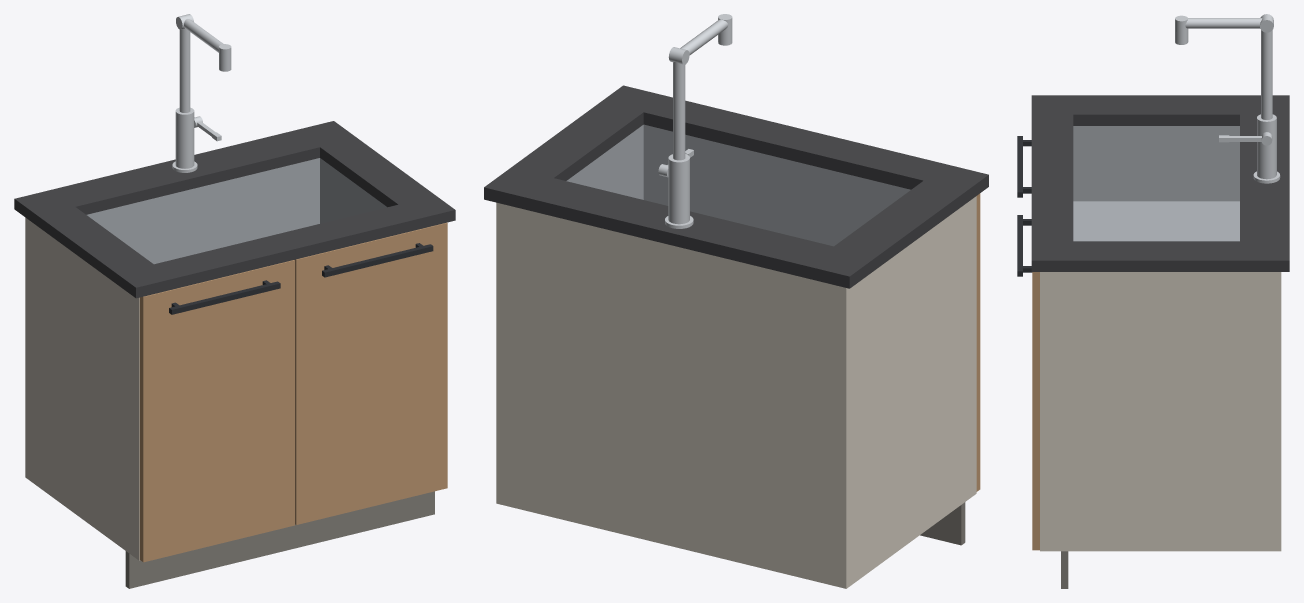
The model's file is faucet.glb.
3 renders of one model, left to right at view 1: azimuth 30°, elevation 25°; view 2: azimuth 150°, elevation 25°; view 3: azimuth 270°, elevation 25°, orthographic. The views are drawn at different scales.
Visible parts, largest first — view 1: 싱크장 왼문, 싱크장 오른문, 싱크장 옆판 왼쪽, 싱크볼, 상판 뒤, 상판 앞, 걸레받이, 상판 옆, 상판 옆.001, 수전 몸통, 수전 목, 싱크장 왼문 손잡이 (+1 smaller); view 2: 싱크장 뒤판, 싱크장 옆판 왼쪽, 싱크볼, 상판 뒤, 상판 앞, 상판 옆, 상판 옆.001, 싱크장 밑판, 싱크장 옆판 오른쪽, 싱크장 왼문, 수전 몸통, 수전 목 (+1 smaller); view 3: 싱크장 옆판 오른쪽, 싱크볼, 상판 앞, 상판 뒤, 상판 옆, 상판 옆.001, 싱크장 오른문, 수전 몸통, 수전 목, 수전 토수구, 수전 물 나오는 곳, 싱크장 오른문 손잡이 (+1 smaller).
Part boxes in pixels (x1=…): 싱크장 왼문: x1=139, y1=260, x2=294, y2=562; 싱크장 오른문: x1=294, y1=222, x2=447, y2=524; 싱크장 옆판 왼쪽: x1=25, y1=217, x2=139, y2=560; 싱크볼: x1=87, y1=158, x2=386, y2=264; 상판 뒤: x1=14, y1=121, x2=356, y2=226; 상판 앞: x1=116, y1=195, x2=455, y2=298; 걸레받이: x1=125, y1=491, x2=434, y2=588; 상판 옆: x1=38, y1=207, x2=153, y2=283; 상판 옆.001: x1=320, y1=138, x2=435, y2=207; 수전 몸통: x1=175, y1=107, x2=194, y2=168; 수전 목: x1=179, y1=28, x2=190, y2=112; 싱크장 왼문 손잡이: x1=169, y1=281, x2=280, y2=314; 싱크장 뒤판: x1=503, y1=204, x2=839, y2=579; 싱크장 옆판 왼쪽: x1=839, y1=196, x2=976, y2=588; 싱크볼: x1=567, y1=124, x2=909, y2=246; 상판 뒤: x1=484, y1=167, x2=876, y2=288; 상판 앞: x1=601, y1=85, x2=988, y2=202; 상판 옆: x1=834, y1=180, x2=966, y2=268; 상판 옆.001: x1=511, y1=102, x2=643, y2=180; 싱크장 밑판: x1=503, y1=498, x2=839, y2=586; 싱크장 옆판 오른쪽: x1=496, y1=202, x2=503, y2=504; 싱크장 왼문: x1=976, y1=193, x2=980, y2=491; 수전 몸통: x1=668, y1=154, x2=689, y2=224; 수전 목: x1=673, y1=62, x2=685, y2=160; 싱크장 옆판 오른쪽: x1=1040, y1=272, x2=1281, y2=551; 싱크볼: x1=1073, y1=126, x2=1239, y2=241; 상판 앞: x1=1031, y1=95, x2=1073, y2=271; 상판 뒤: x1=1240, y1=95, x2=1289, y2=271; 상판 옆: x1=1073, y1=95, x2=1239, y2=125; 상판 옆.001: x1=1073, y1=241, x2=1239, y2=271; 싱크장 오른문: x1=1032, y1=272, x2=1039, y2=550; 수전 몸통: x1=1257, y1=114, x2=1276, y2=179; 수전 목: x1=1261, y1=30, x2=1272, y2=119; 수전 토수구: x1=1185, y1=18, x2=1262, y2=28; 수전 물 나오는 곳: x1=1175, y1=15, x2=1188, y2=44; 싱크장 오른문 손잡이: x1=1017, y1=215, x2=1022, y2=276.
Bounding box in the file's own units: 0.94 × 1.31 × 0.655.
